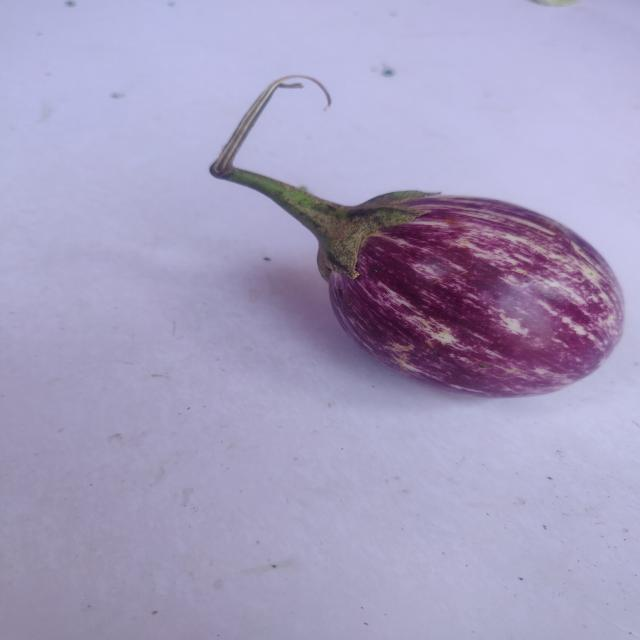Eggplant: (190, 140, 634, 403)
